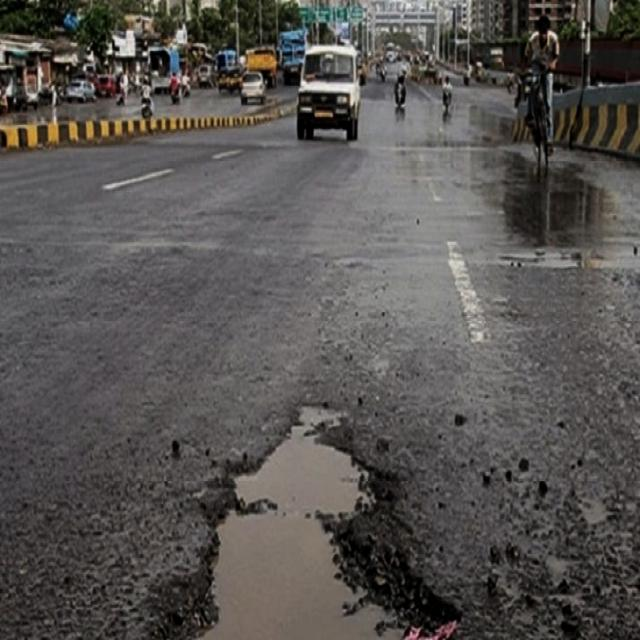Pothole: (150, 384, 462, 640)
